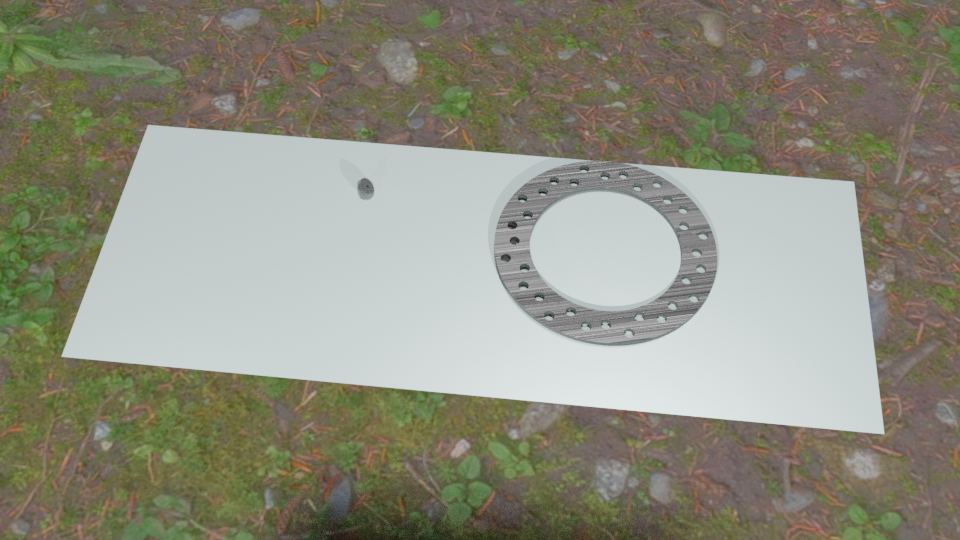yamaha_letters: (500, 220, 519, 262)
